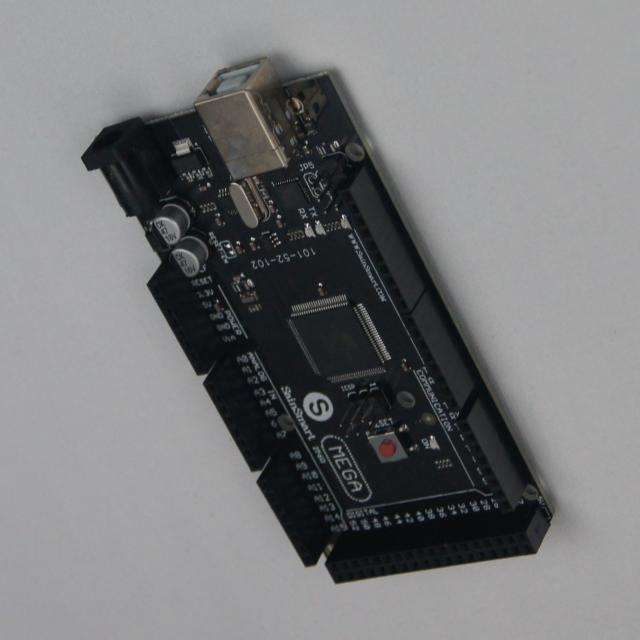Arduino Mega 2560 -Black-: (83, 59, 553, 584)
